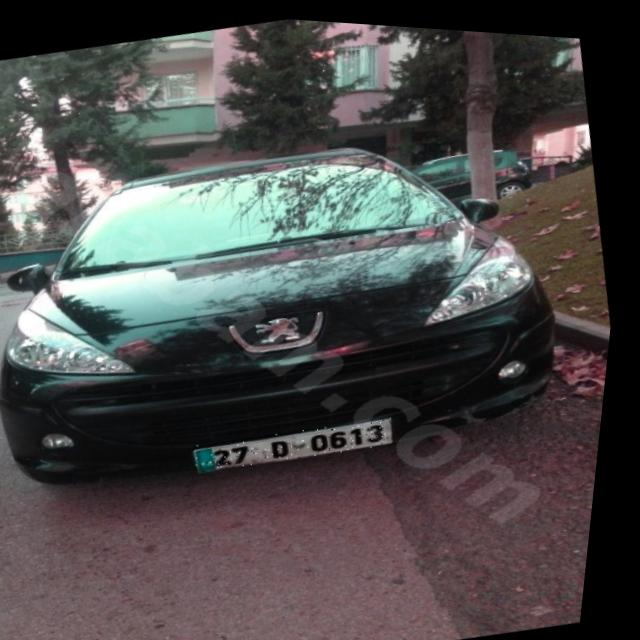license_plate: (201, 400, 405, 479)
